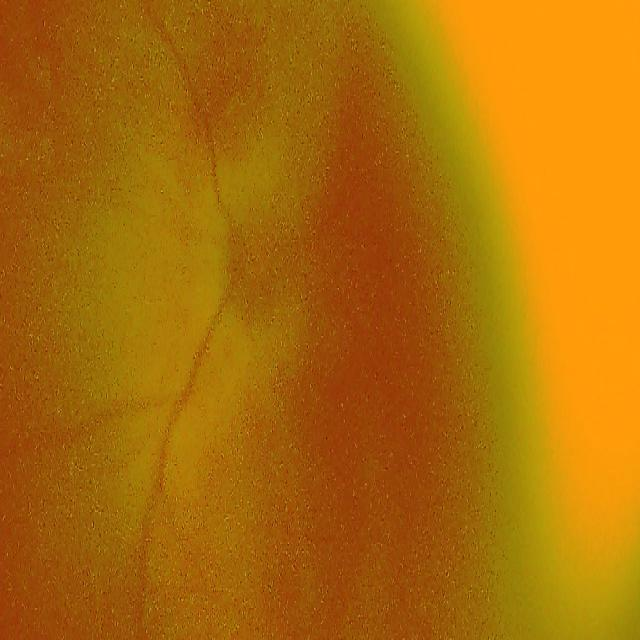optic-nerve: (216, 201, 312, 341)
